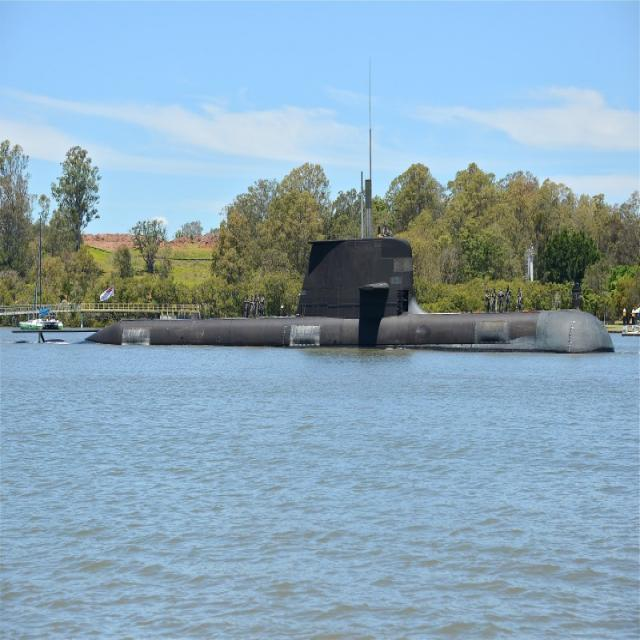submarine: (32, 235, 615, 343)
